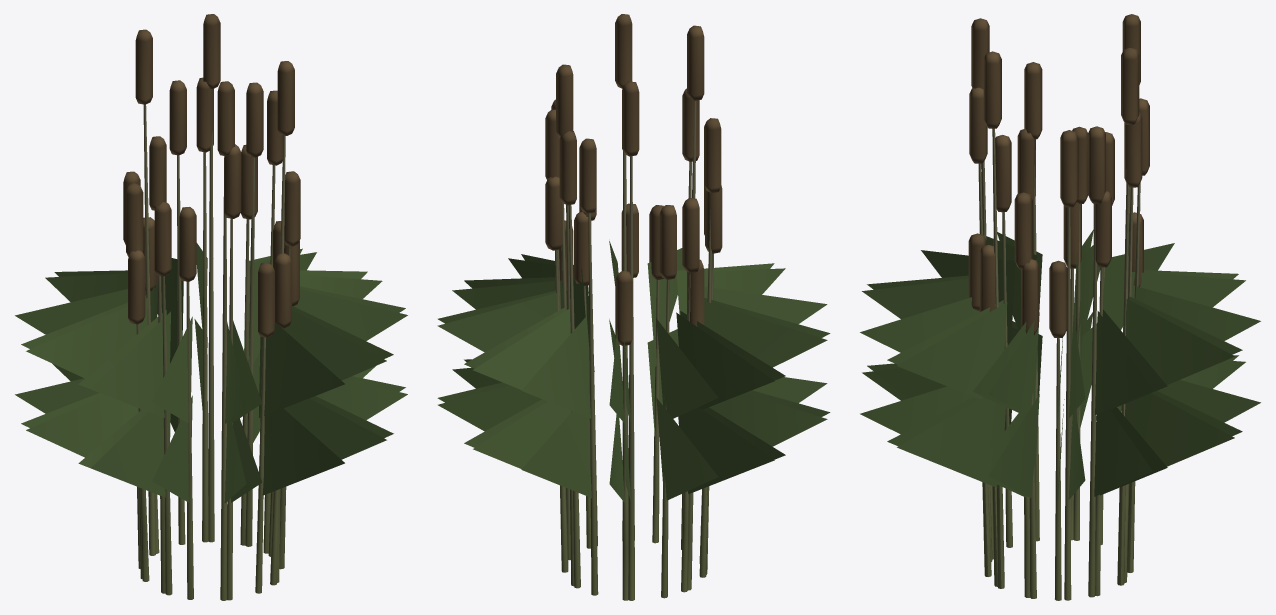
Rendered from climate-reed.glb.
The picture shows the model from 3 angles, left to right: view 1: azimuth 30°, elevation 25°; view 2: azimuth 150°, elevation 25°; view 3: azimuth 270°, elevation 25°; orthographic projection. The views are drawn at different scales.
Parts seen in each view (by area): view 1: reed-1, reed-0; view 2: reed-1, reed-0; view 3: reed-1, reed-0.
Part boxes in pixels (x1=…): reed-1: x1=15, y1=14, x2=407, y2=600; reed-0: x1=26, y1=29, x2=405, y2=600; reed-1: x1=437, y1=25, x2=827, y2=600; reed-0: x1=437, y1=14, x2=830, y2=600; reed-1: x1=860, y1=18, x2=1245, y2=600; reed-0: x1=862, y1=14, x2=1260, y2=600.
Size of the model in its own units: 0.6808 by 1 by 0.6764.
